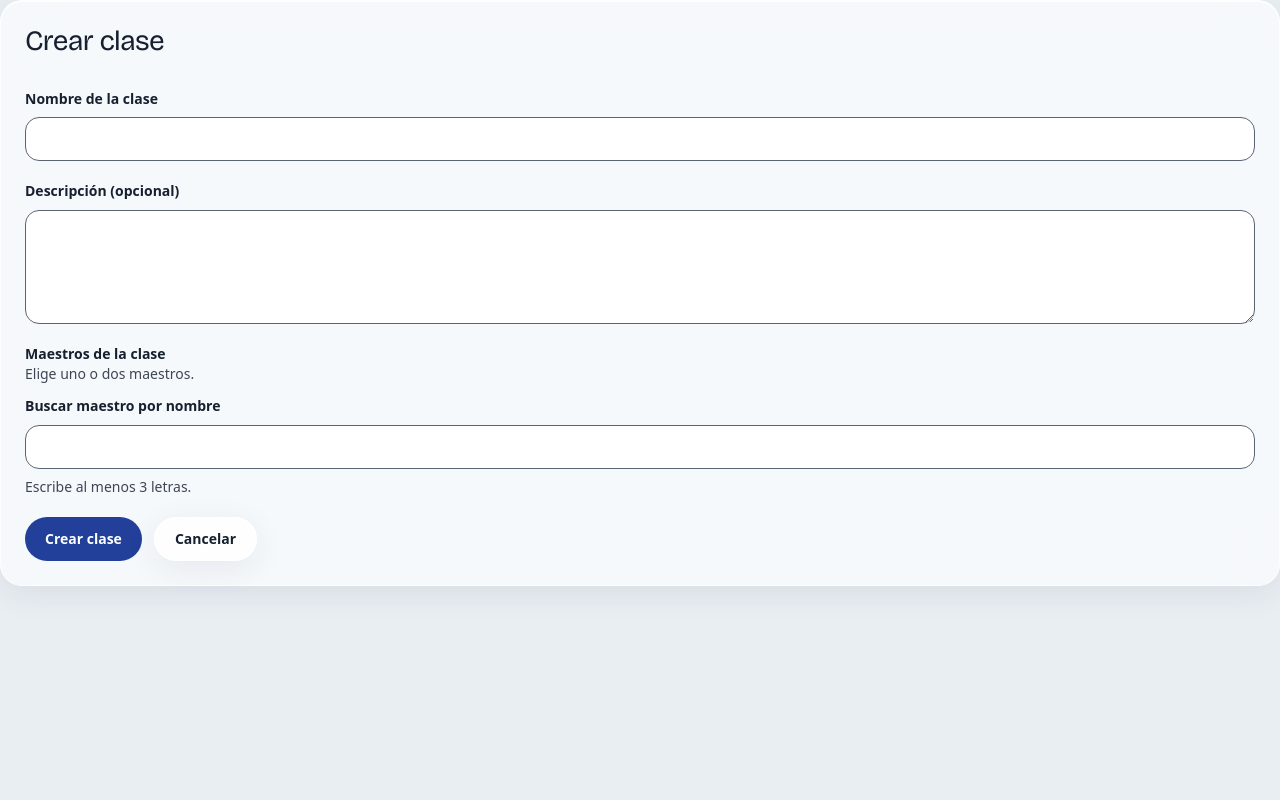
Scenario: ataque CLASES-02c r1: el selector de maestros al crear una clase › con dos elegidos el buscador se oculta con su nota y el foco va a un «Quitar»; al quitar a uno vuelve el buscador; al quitar al último el foco va al buscador
This screenshot has width=1280, height=800.
Type "Luis" into the field labelled "Buscar maestro por nombre" at (640, 447), box [25, 425, 1255, 469]
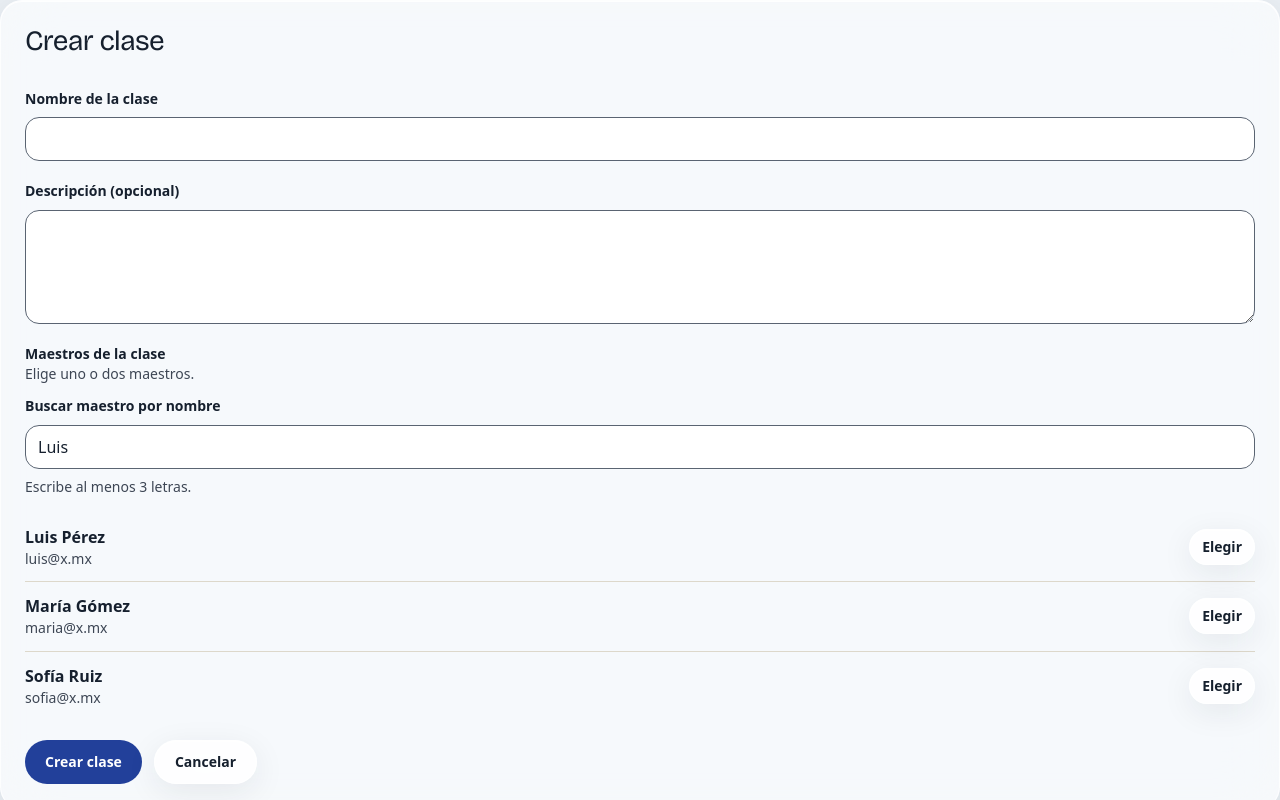
Click the button named "Elegir Luis Pérez" at (1222, 547), box [1189, 529, 1255, 565]
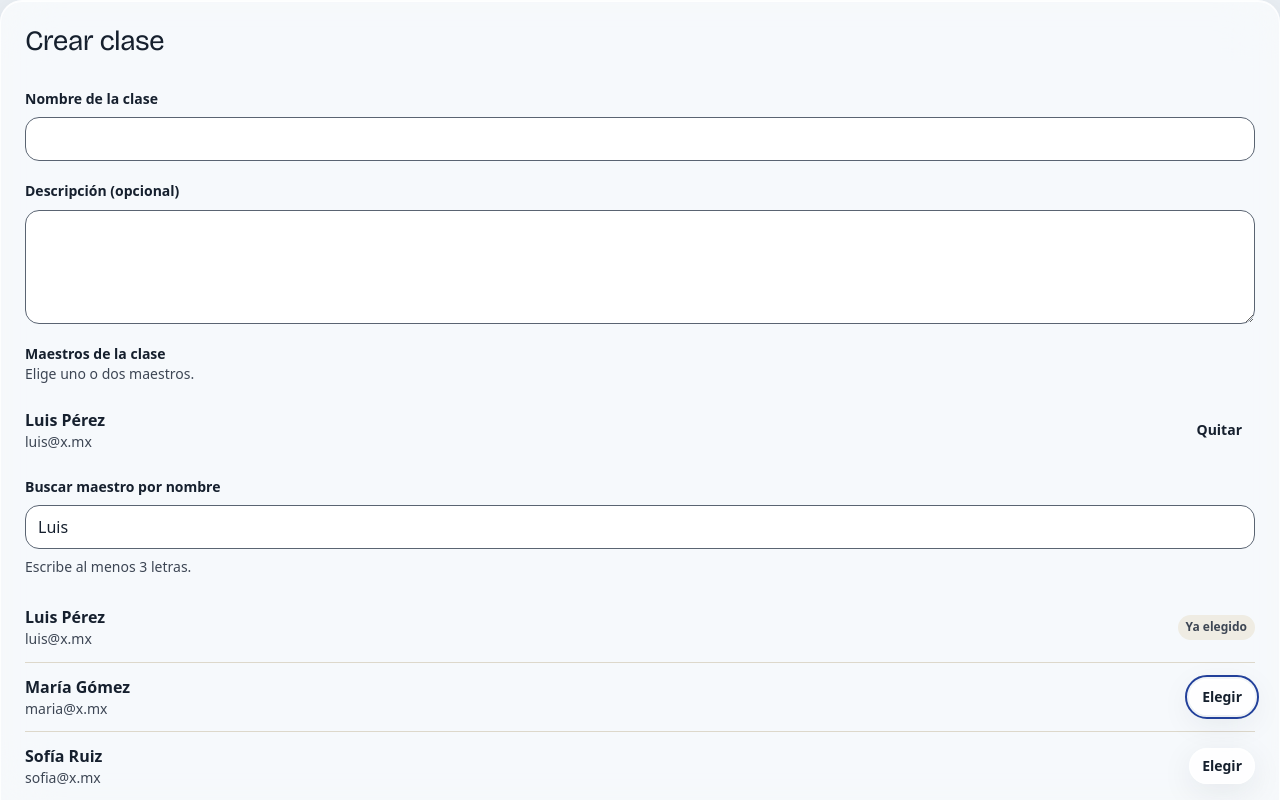
Check: the button "Elegir Luis Pérez" is not shown
Check: the text "Ya elegido" is shown, box [1178, 615, 1255, 640]
Click the button named "Elegir María Gómez" at (1222, 697), box [1189, 679, 1255, 715]
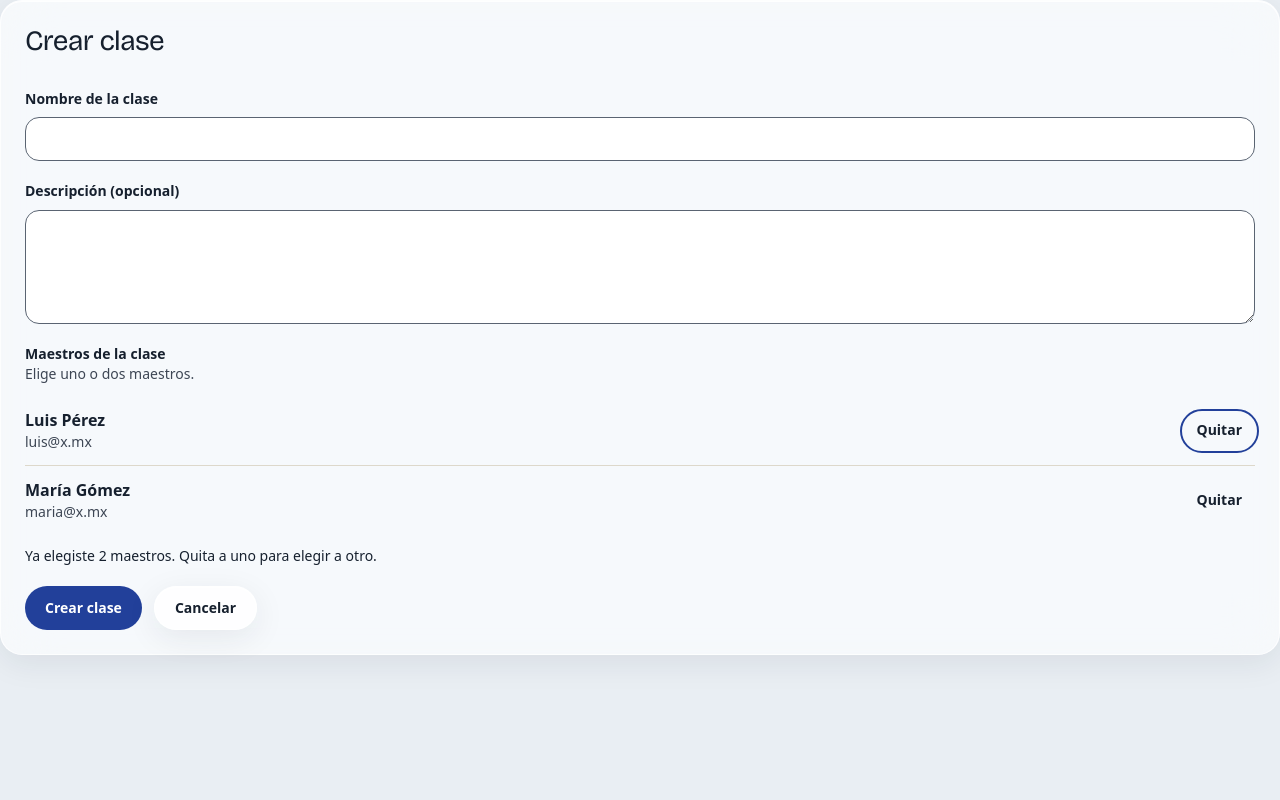
Check: the text "Ya elegiste 2 maestros. Quita a uno para elegir a otro." is shown, box [25, 546, 377, 565]
Check: the label labelled "Buscar maestro por nombre" is gone
Click the button named "Quitar Luis Pérez" at (1219, 430), box [1184, 412, 1255, 448]
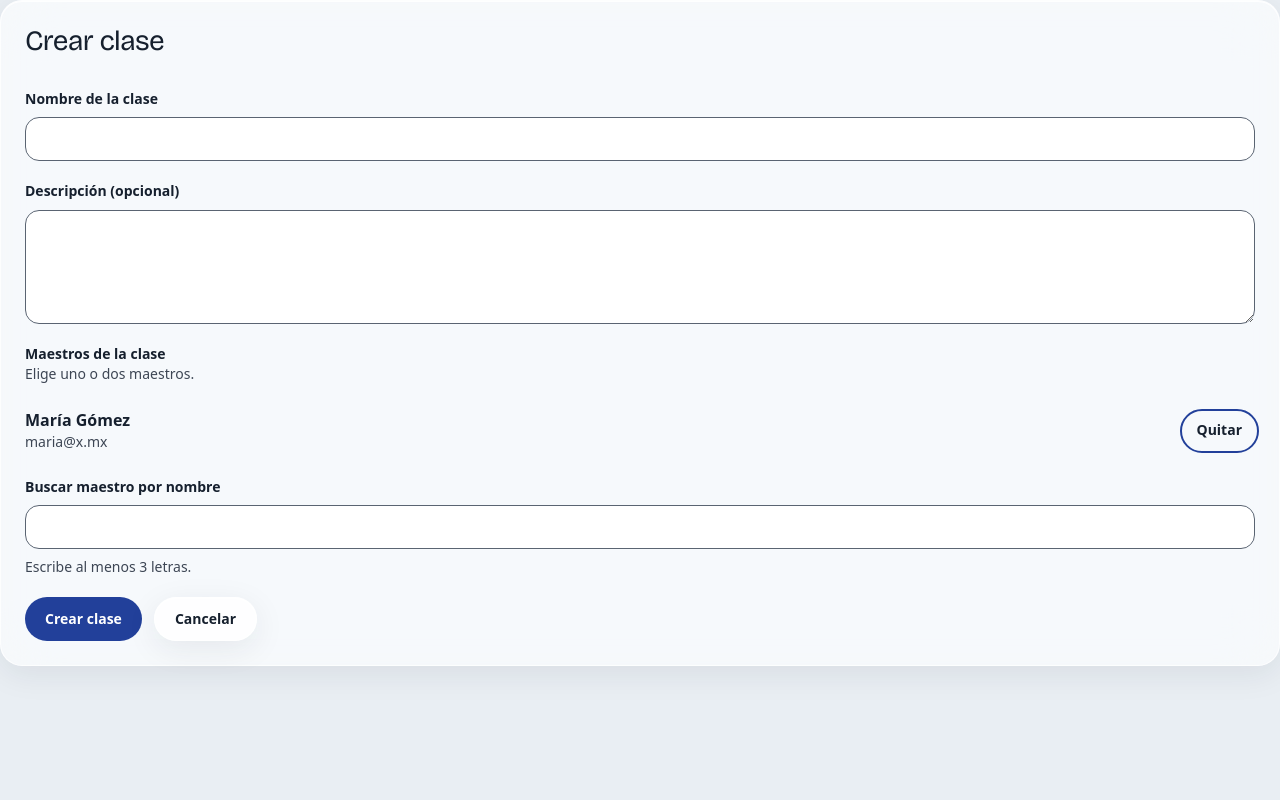
Check: the field labelled "Buscar maestro por nombre" is shown, box [25, 505, 1255, 549]
Click the button named "Quitar María Gómez" at (1219, 430), box [1184, 412, 1255, 448]
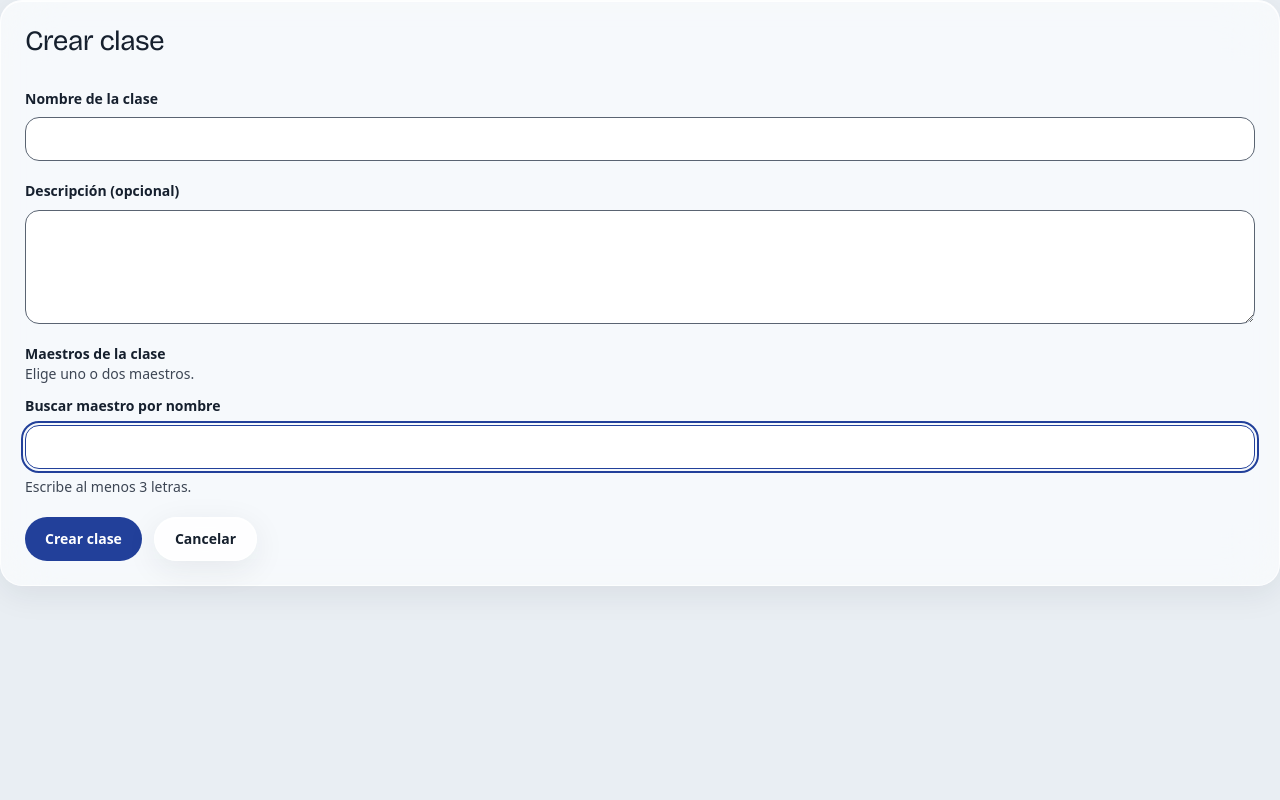
Check: the button "Quitar " is gone
